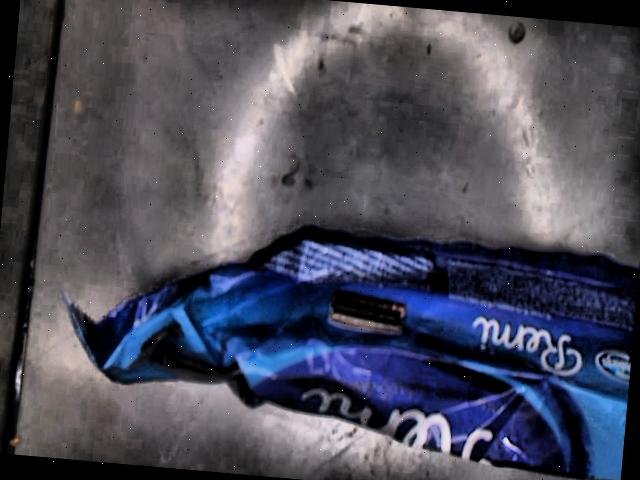Plastic: (59, 224, 639, 480)
